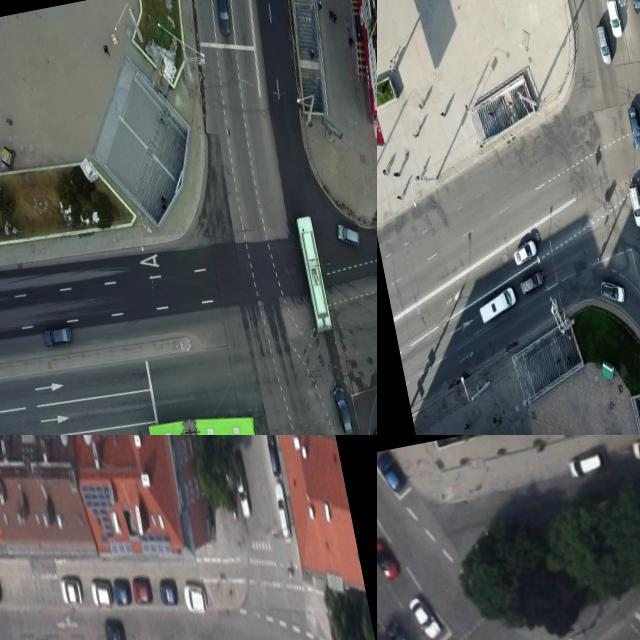UAI: (404, 590, 443, 640), (377, 449, 408, 496), (331, 383, 355, 435), (232, 456, 252, 518), (377, 535, 401, 584), (273, 482, 293, 540), (566, 451, 605, 479), (182, 579, 210, 617), (335, 220, 362, 252), (511, 239, 540, 268), (212, 0, 235, 36), (42, 324, 74, 349), (599, 277, 626, 306), (596, 23, 614, 65), (518, 269, 546, 296), (263, 435, 282, 474), (60, 577, 84, 607), (605, 0, 623, 39), (90, 579, 114, 608), (157, 576, 179, 606), (131, 577, 154, 605), (103, 615, 128, 640), (627, 182, 640, 228), (627, 105, 640, 150), (112, 577, 132, 606), (384, 619, 408, 640), (631, 435, 640, 462), (627, 0, 640, 15)
car: (295, 215, 334, 334), (147, 403, 259, 435)
harvester: (476, 286, 519, 323)
